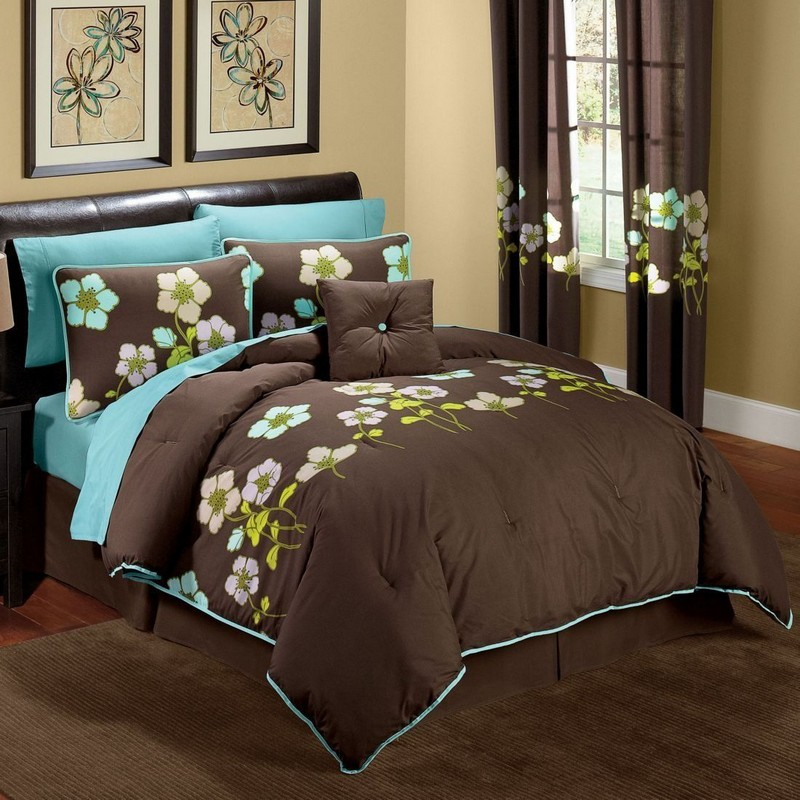bed: (2, 188, 739, 748)
